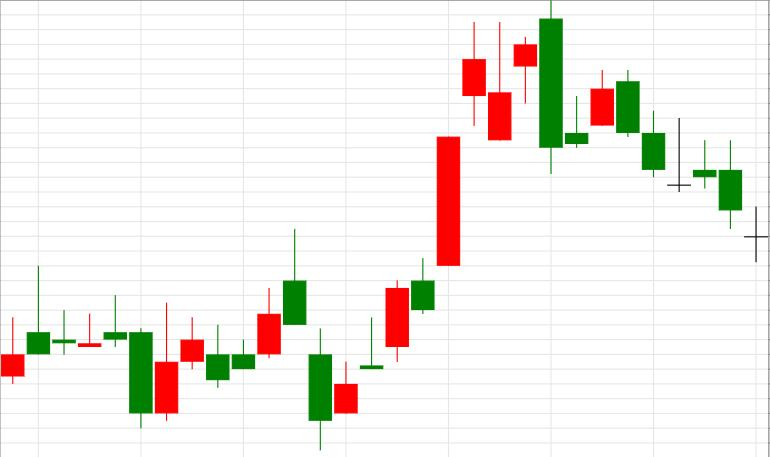bearish_engulfing_fall: (386, 0, 562, 361)
